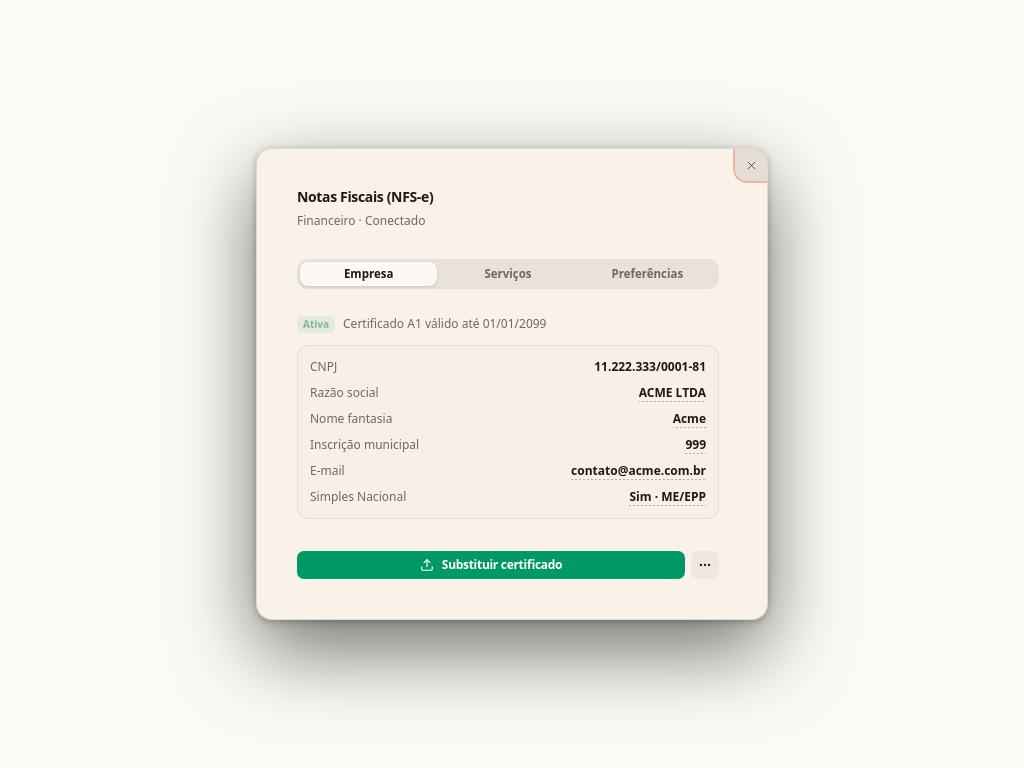
Test: janela Notas Fiscais (NFS-e) › Serviços: lista com padrão marcado, contador e exclusão com confirmação
The image size is (1024, 768).
Later steps or results of the test are not shown.
Expected: the text "Financeiro · Conectado" is shown, left=297, top=212, right=425, bottom=229
Click the button "Serviços" at (508, 274), box left=439, top=262, right=577, bottom=286
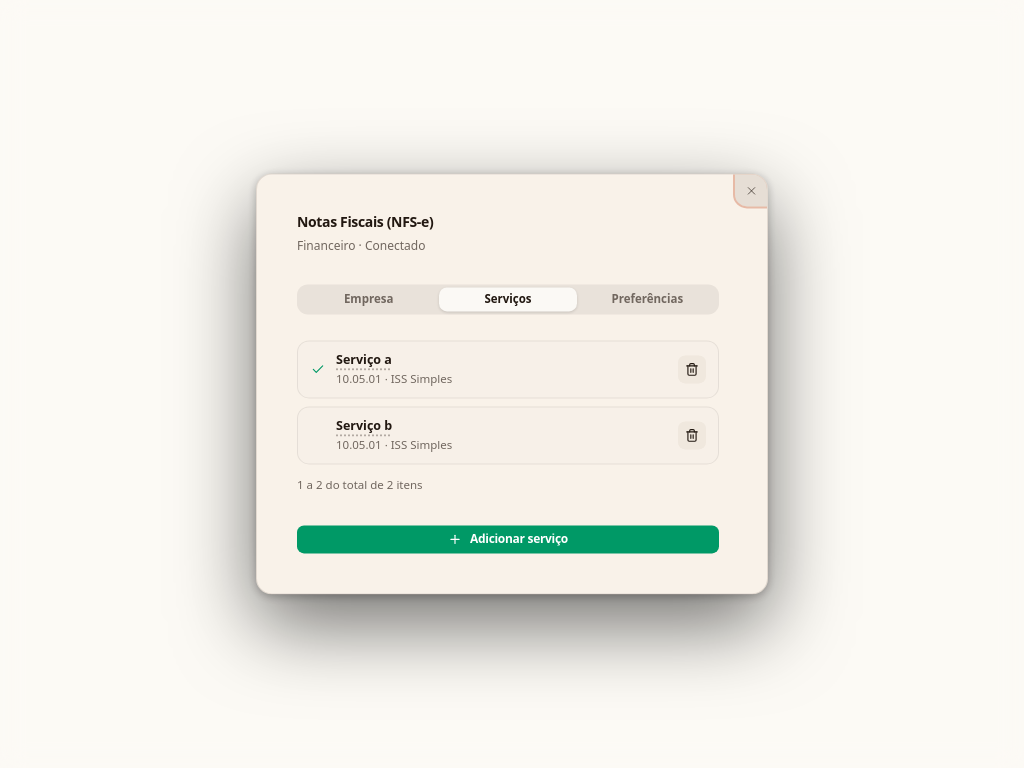
Result: the text "1 a 2 do total de 2 itens" is shown at left=297, top=477, right=423, bottom=492
Result: the text "10.05.01 · ISS Simples" is shown 2 times at left=336, top=371, right=452, bottom=386; left=336, top=437, right=452, bottom=452
Result: the icon named "Serviço padrão" is shown at left=311, top=362, right=325, bottom=376
Click the 2nd button named "Excluir serviço" at (692, 435), box left=678, top=421, right=706, bottom=449
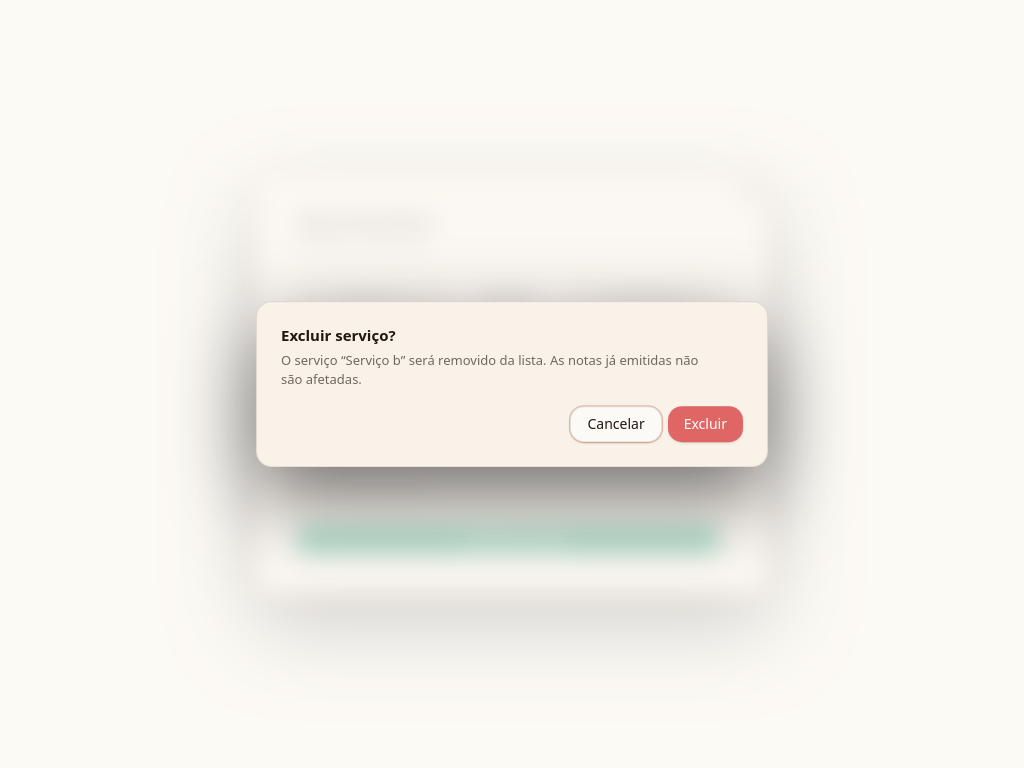
Result: the heading "Excluir serviço?" is shown at left=281, top=325, right=396, bottom=345
Result: the text "As notas já emitidas não são afetadas" is shown at left=281, top=351, right=698, bottom=388
